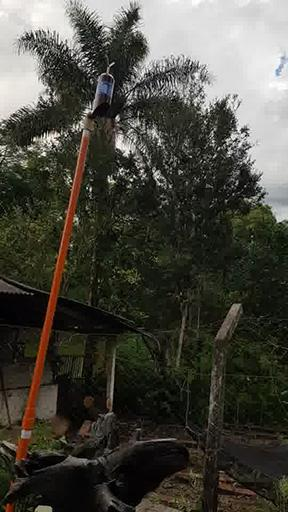Detector_Tensao_Contato: (89, 55, 115, 118)
Vara_Manobra: (6, 119, 93, 512)
